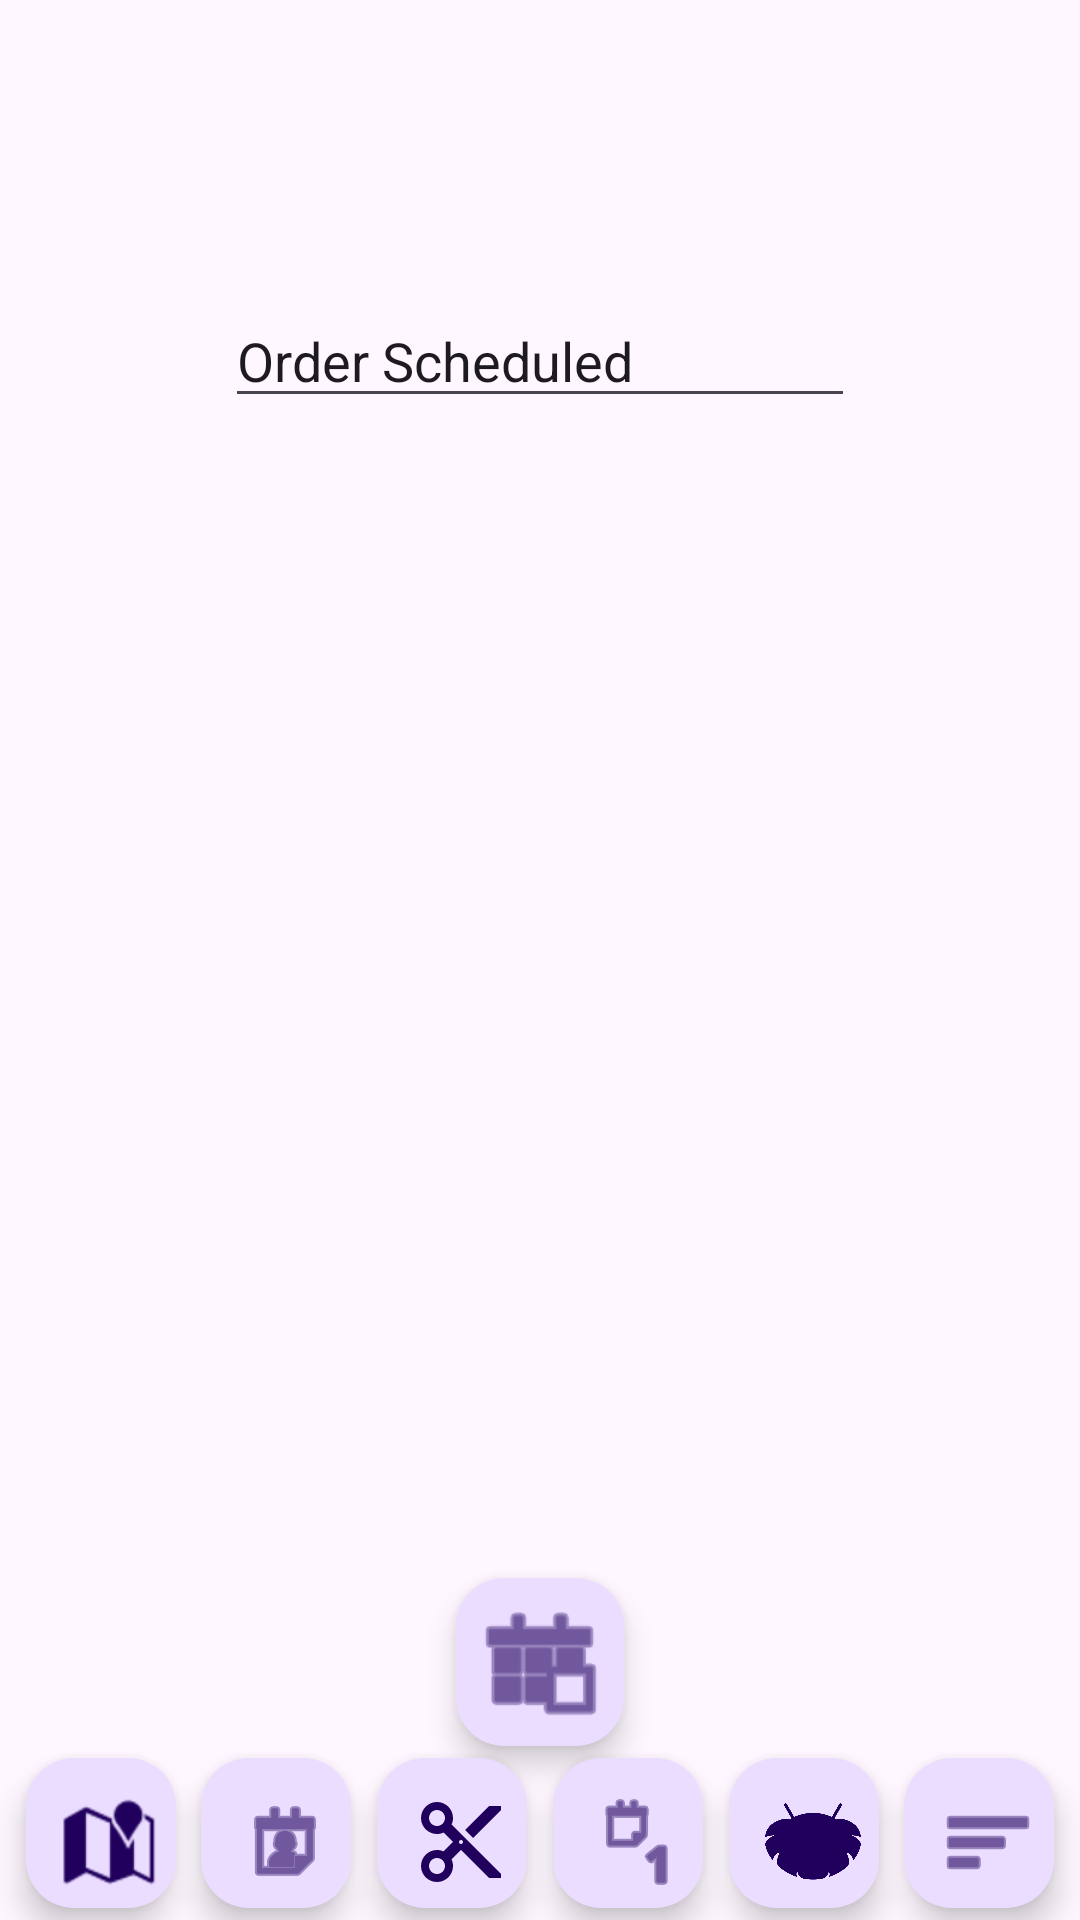

Screen size 1080*1920. Icon name, then its box in pixels as region(x1, y1, x2, y2):
Location: region(26, 1758, 176, 1908)
Order Scheduled: region(456, 1578, 624, 1746)
Professional: region(201, 1758, 351, 1908)
Service: region(377, 1758, 527, 1908)
